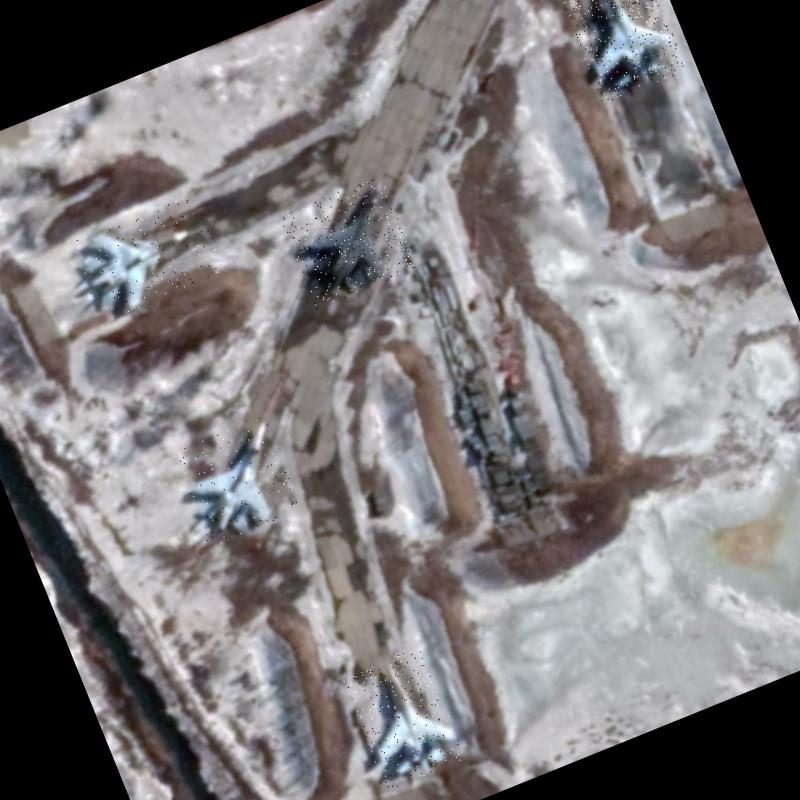A1: (278, 172, 420, 308), (341, 646, 466, 790), (170, 414, 303, 548), (557, 0, 687, 103)
A19: (69, 191, 228, 322)
